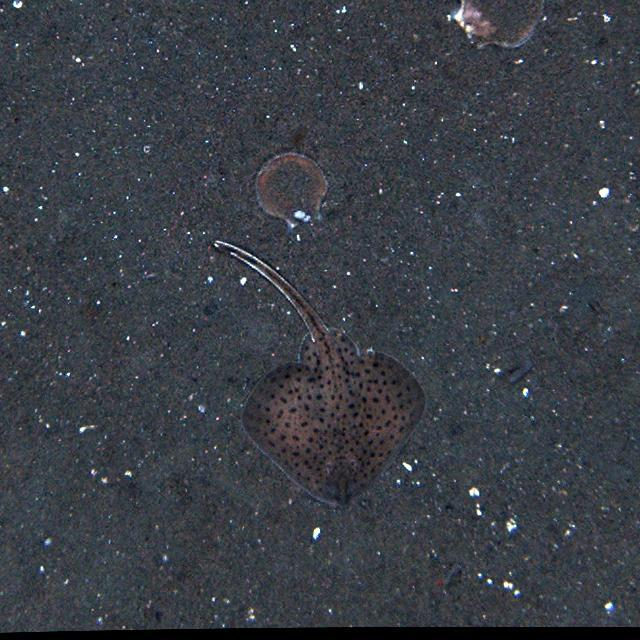skate: (205, 233, 429, 516)
